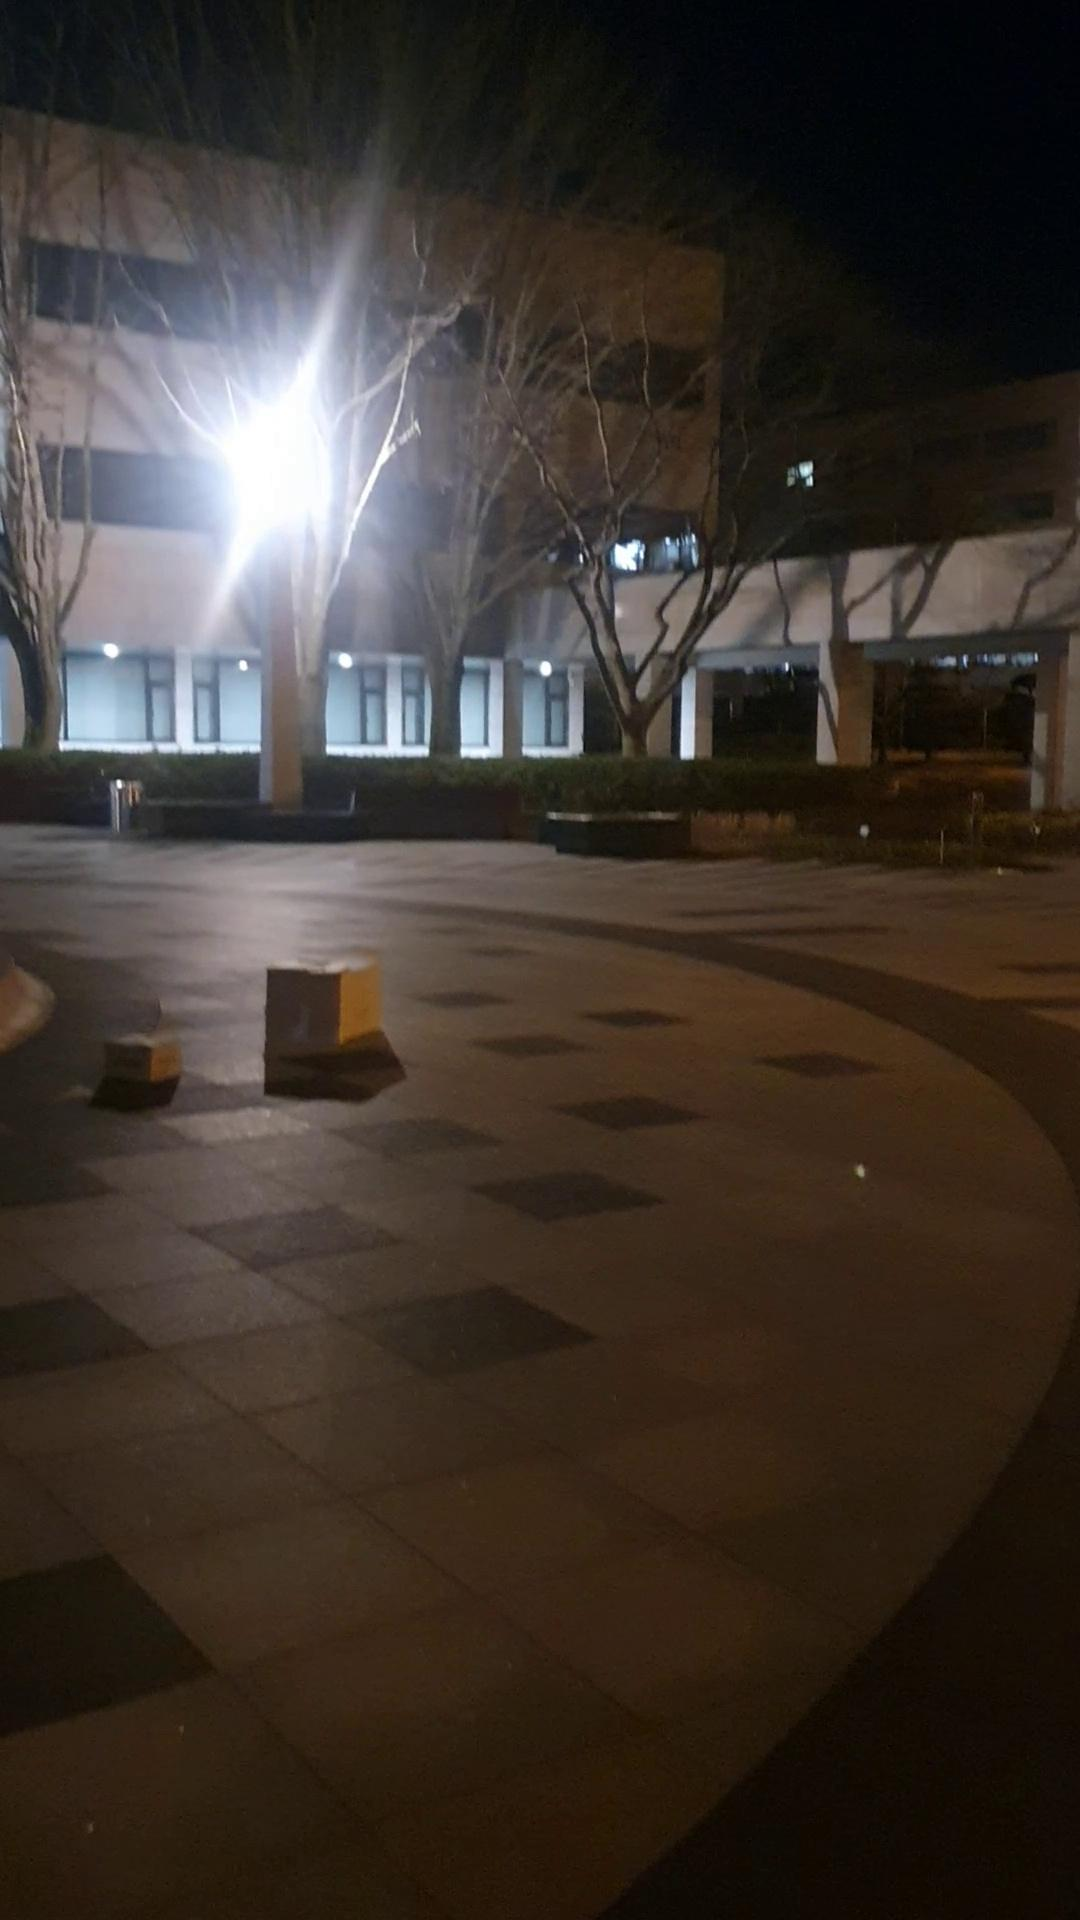Box: (248, 945, 392, 1075), (108, 1025, 193, 1091)
